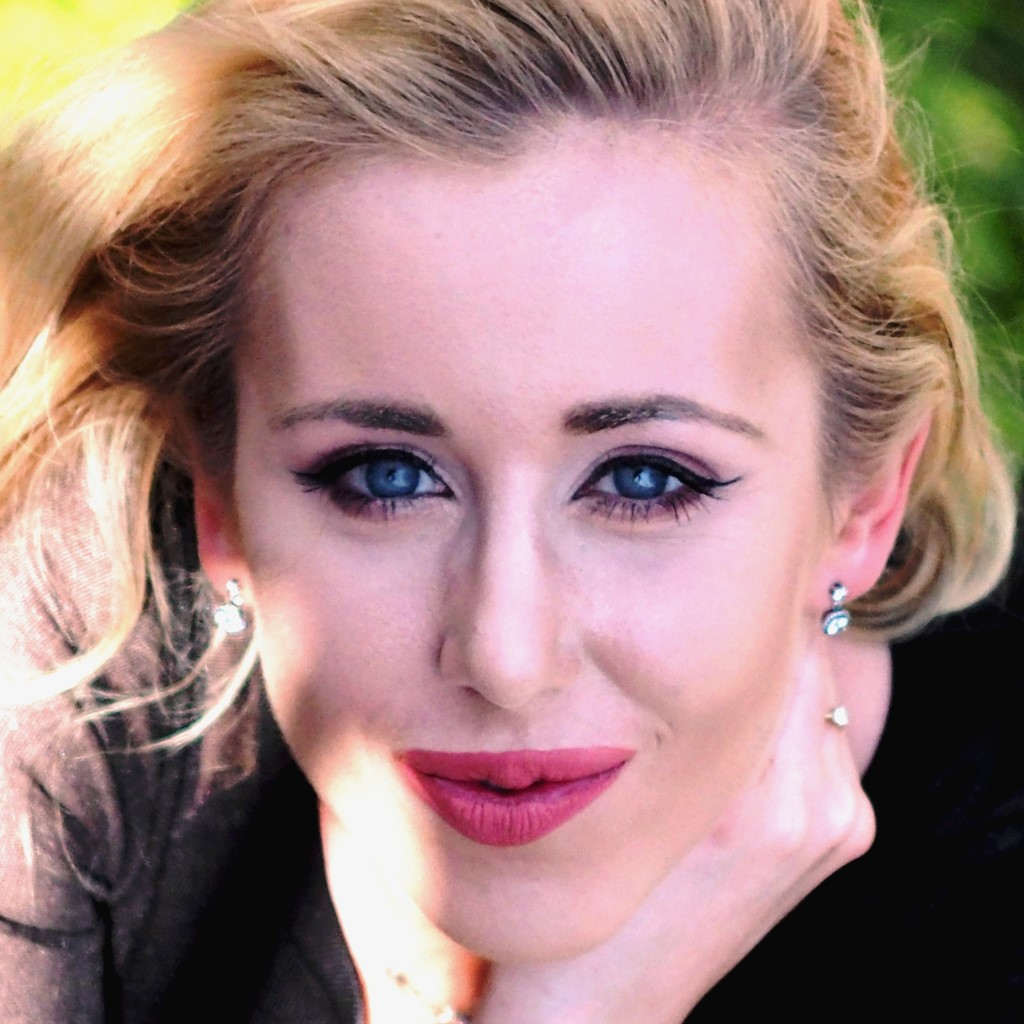sin_mascara: (230, 137, 845, 957)
